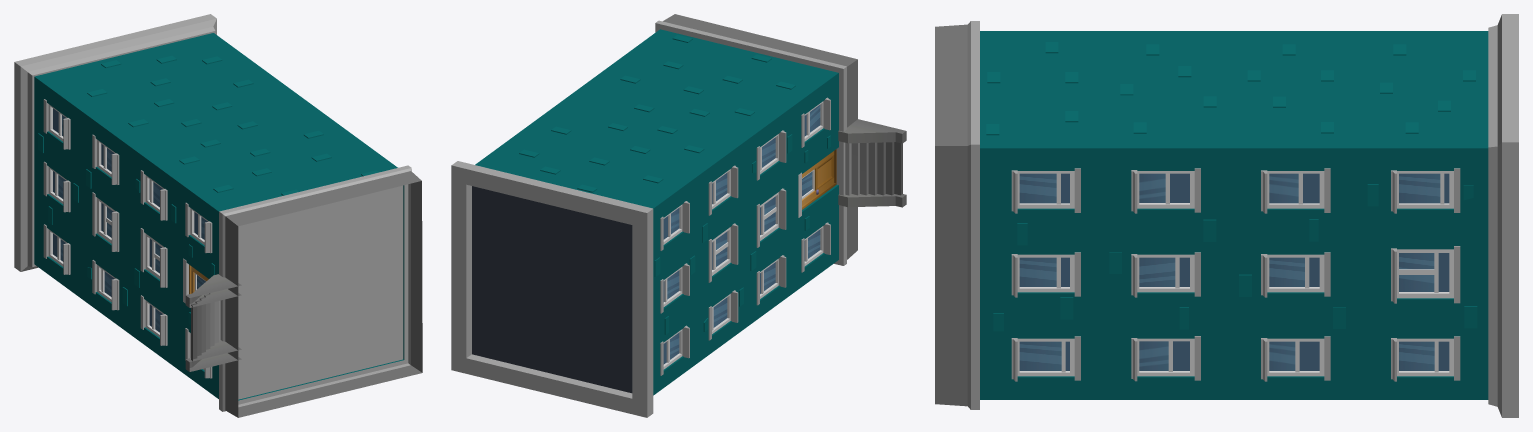
The model's file is Building_2_2_H.fbx.
3 views of the same model, side by side, from view 1: azimuth 30°, elevation 25°; view 2: azimuth 150°, elevation 25°; view 3: azimuth 270°, elevation 25° (orthographic). The views are drawn at different scales.
Visible parts, largest first — view 1: Building_2_2_H; view 2: Building_2_2_H; view 3: Building_2_2_H.
Part boxes in pixels (x1,y1,x2,y2): Building_2_2_H: (14,14,422,417); Building_2_2_H: (451,14,906,417); Building_2_2_H: (935,14,1518,417).
Bounding box in the file's own units: 754 × 620 × 1191.
